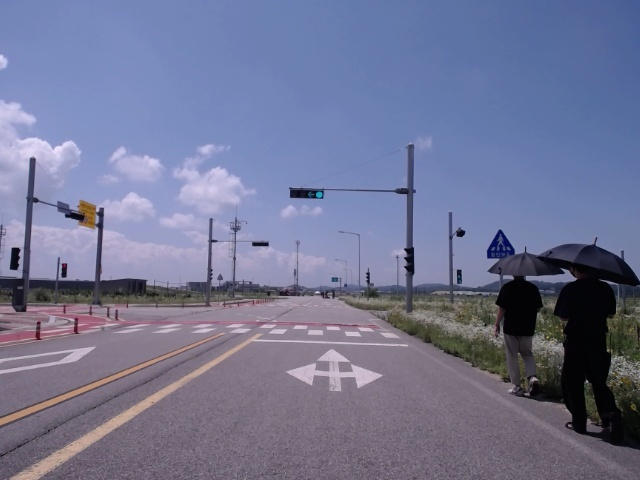all_green_4: (292, 189, 325, 200)
